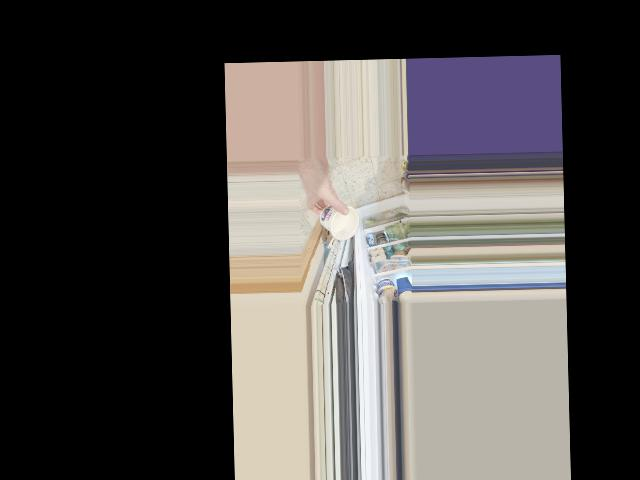cotage: (317, 202, 357, 240)
